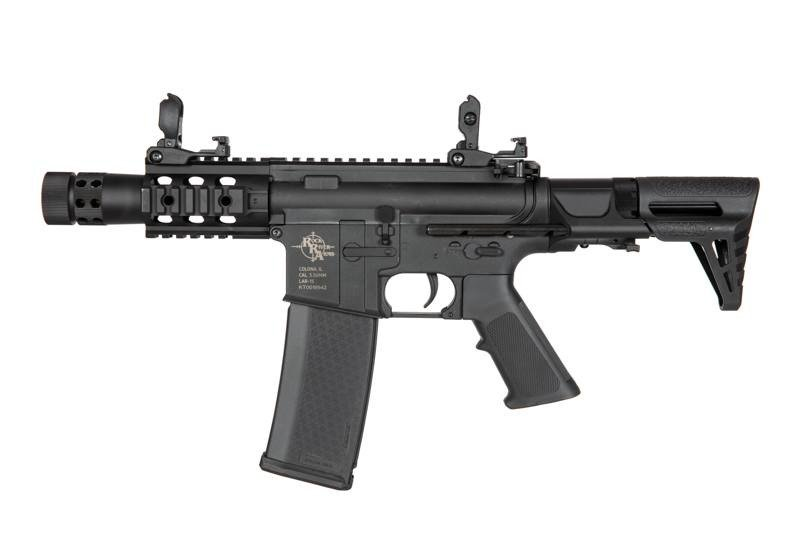m4_carbine: (268, 152, 582, 517)
